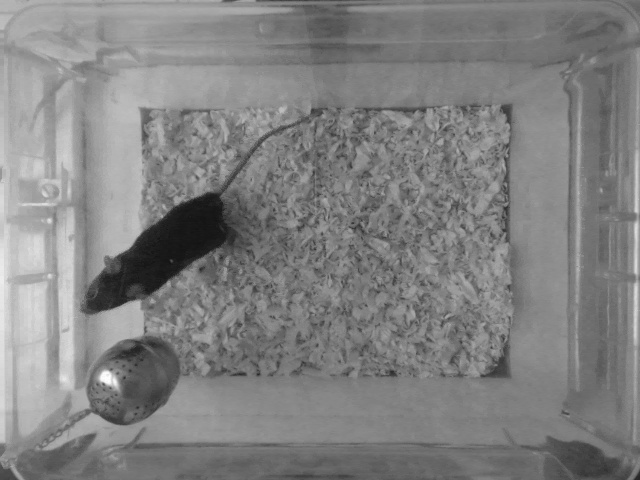mice: (76, 113, 316, 317)
